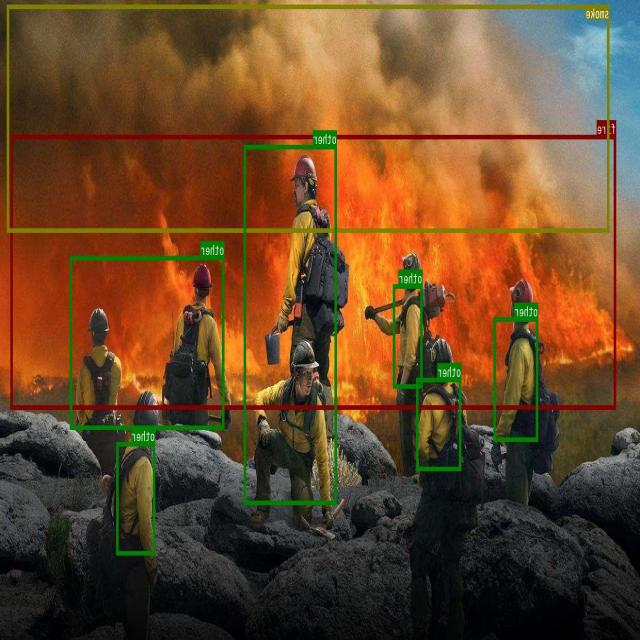fire: (11, 135, 616, 409)
other: (245, 144, 338, 504), (70, 256, 225, 429), (494, 317, 539, 440), (117, 442, 156, 554), (417, 377, 462, 470), (394, 284, 423, 388)
smoke: (8, 4, 610, 231)
